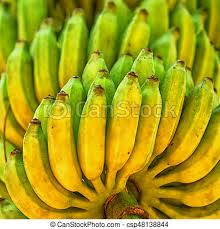banana: (104, 70, 143, 190)
